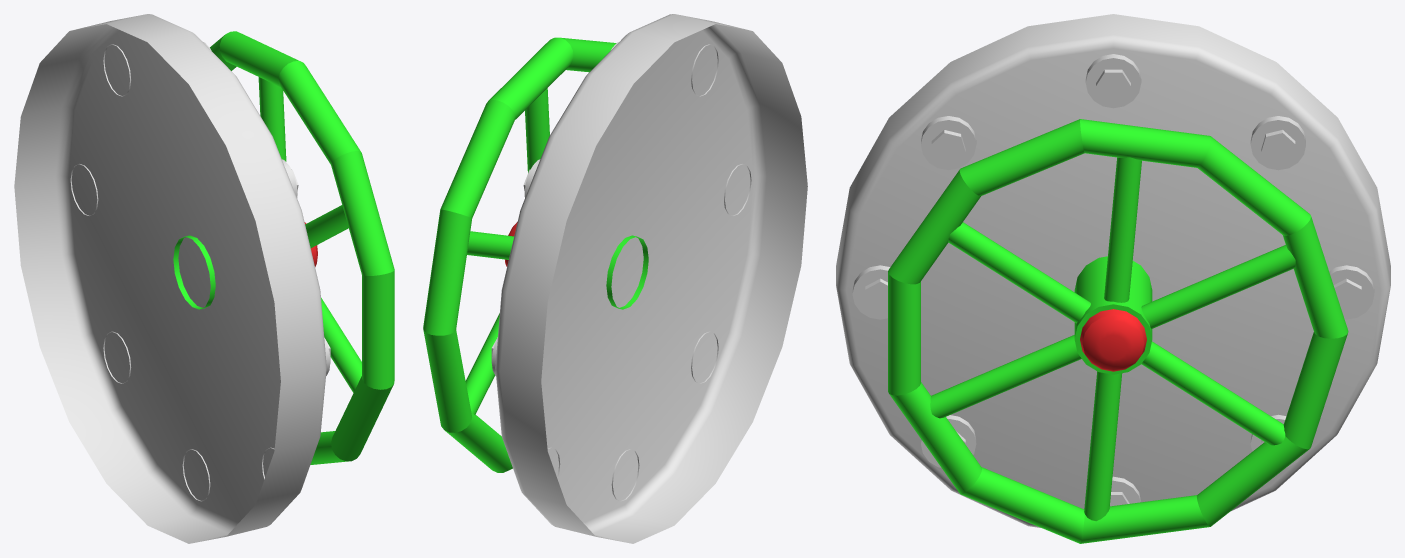
File: P_End_Valve.fbx
The picture shows the model from 3 angles, left to right: view 1: azimuth 30°, elevation 25°; view 2: azimuth 150°, elevation 25°; view 3: azimuth 270°, elevation 25°; orthographic projection. The views are drawn at different scales.
Visible parts, largest first — view 1: P_End_Valve, P_Valve; view 2: P_End_Valve, P_Valve; view 3: P_End_Valve, P_Valve.
Part boxes in pixels (<box>): P_End_Valve: <box>14,14,330,543</box>; P_Valve: <box>173,31,394,464</box>; P_End_Valve: <box>491,14,807,543</box>; P_Valve: <box>423,37,648,472</box>; P_End_Valve: <box>836,14,1390,527</box>; P_Valve: <box>888,119,1348,543</box>.
Bounding box in the file's own units: 49.16 × 140 × 140.
